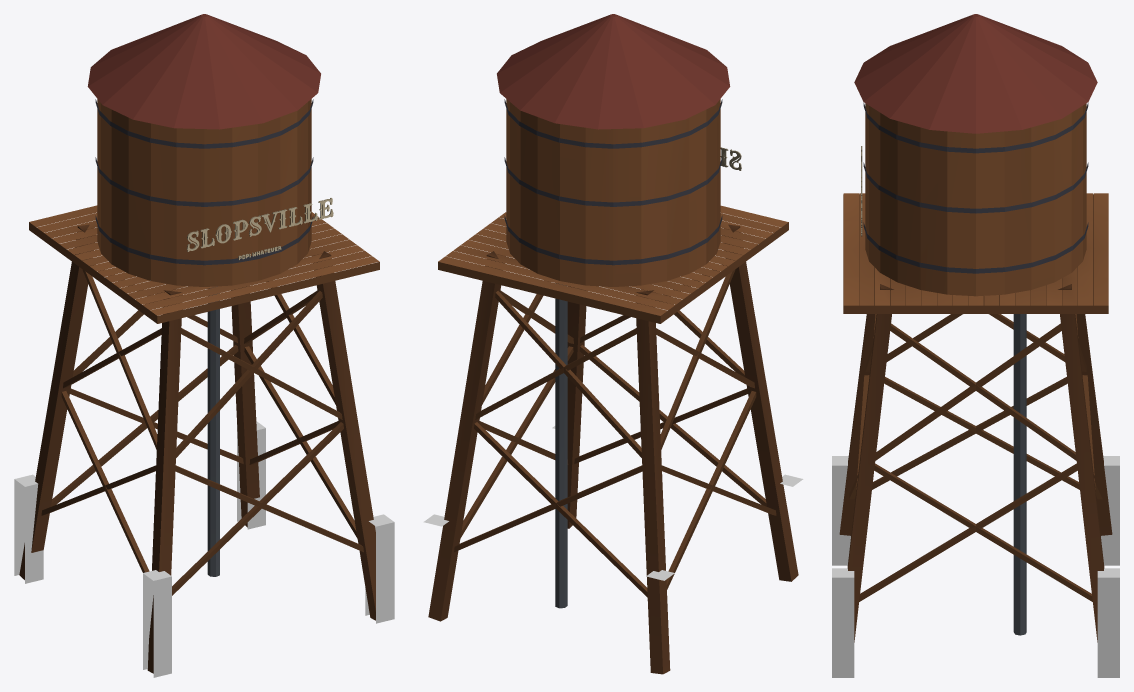
Rendered from water_tower.glb.
3 renders of one model, left to right at view 1: azimuth 30°, elevation 25°; view 2: azimuth 150°, elevation 25°; view 3: azimuth 270°, elevation 25°, orthographic. The views are drawn at different scales.
Visible parts, largest first — view 1: water_tower, COL_3, COL_0, COL_2, COL_1; view 2: water_tower; view 3: water_tower, COL_1, COL_2, COL_0, COL_3.
Part boxes in pixels (<box>): water_tower: <box>19,14,379,673</box>; COL_3: <box>143,570,171,677</box>; COL_0: <box>14,474,43,583</box>; COL_2: <box>365,514,394,623</box>; COL_1: <box>237,421,265,529</box>; water_tower: <box>428,14,798,674</box>; water_tower: <box>839,14,1112,642</box>; COL_1: <box>1097,568,1119,677</box>; COL_2: <box>832,568,854,677</box>; COL_0: <box>1101,456,1119,565</box>; COL_3: <box>832,456,850,565</box>.
Bounding box in the file's own units: 7.8 × 18.04 × 7.8.
